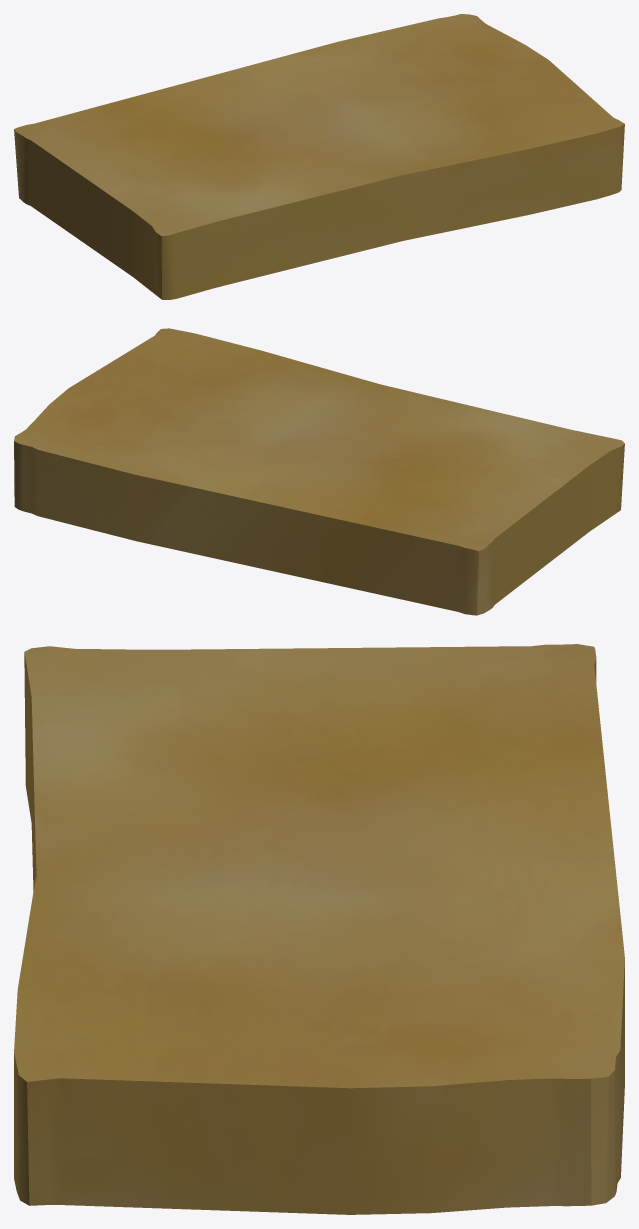
The model's file is doughCookie.fbx.
3 renders of one model, top to bottom at view 1: azimuth 30°, elevation 25°; view 2: azimuth 150°, elevation 25°; view 3: azimuth 270°, elevation 25°, orthographic. The views are drawn at different scales.
Visible parts, largest first — view 1: pCube1; view 2: pCube1; view 3: pCube1.
Part boxes in pixels (left/top/right/bottom): pCube1: left=14, top=14, right=624, bottom=299; pCube1: left=14, top=328, right=624, bottom=615; pCube1: left=14, top=644, right=624, bottom=1214.
Bounding box in the file's own units: 101 × 13.61 × 58.64.
1 material, 1 textured.
